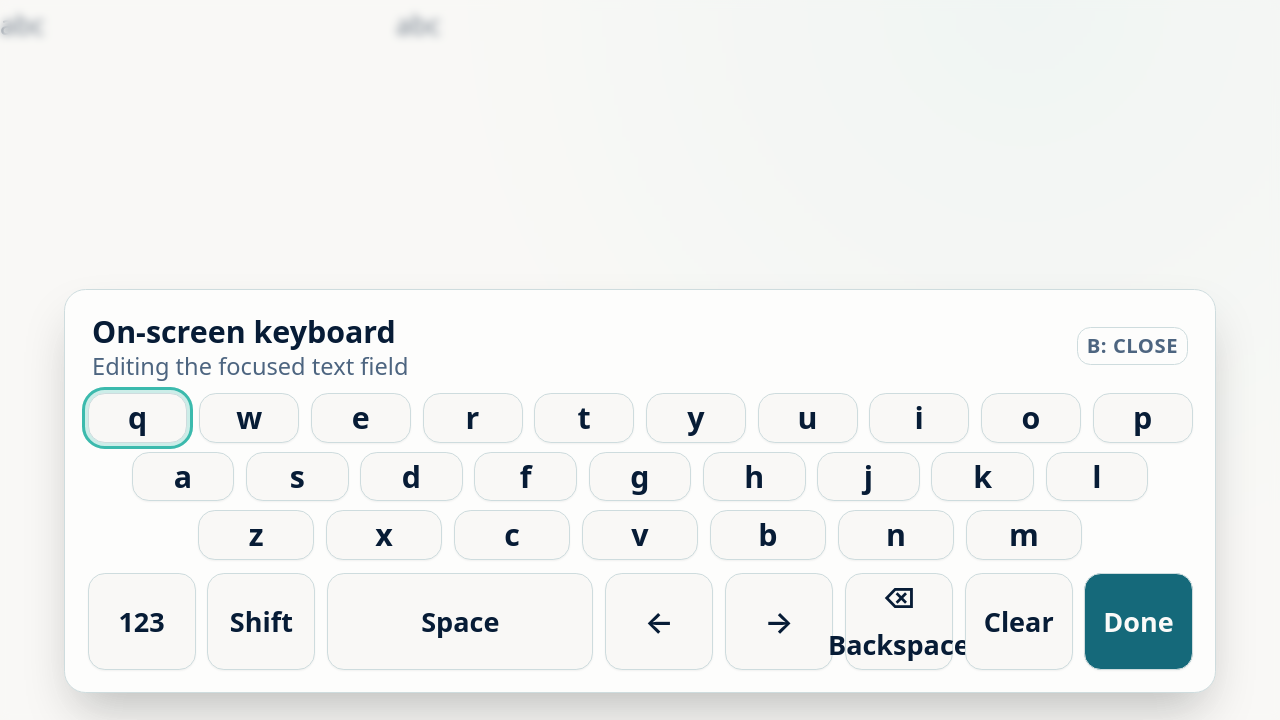
OnScreenKeyboard › edits, cancels, and returns focus to the field
The image size is (1280, 720).
Step 1. Click the button "⌫ Backspace" → (899, 621), box [845,573,953,670]
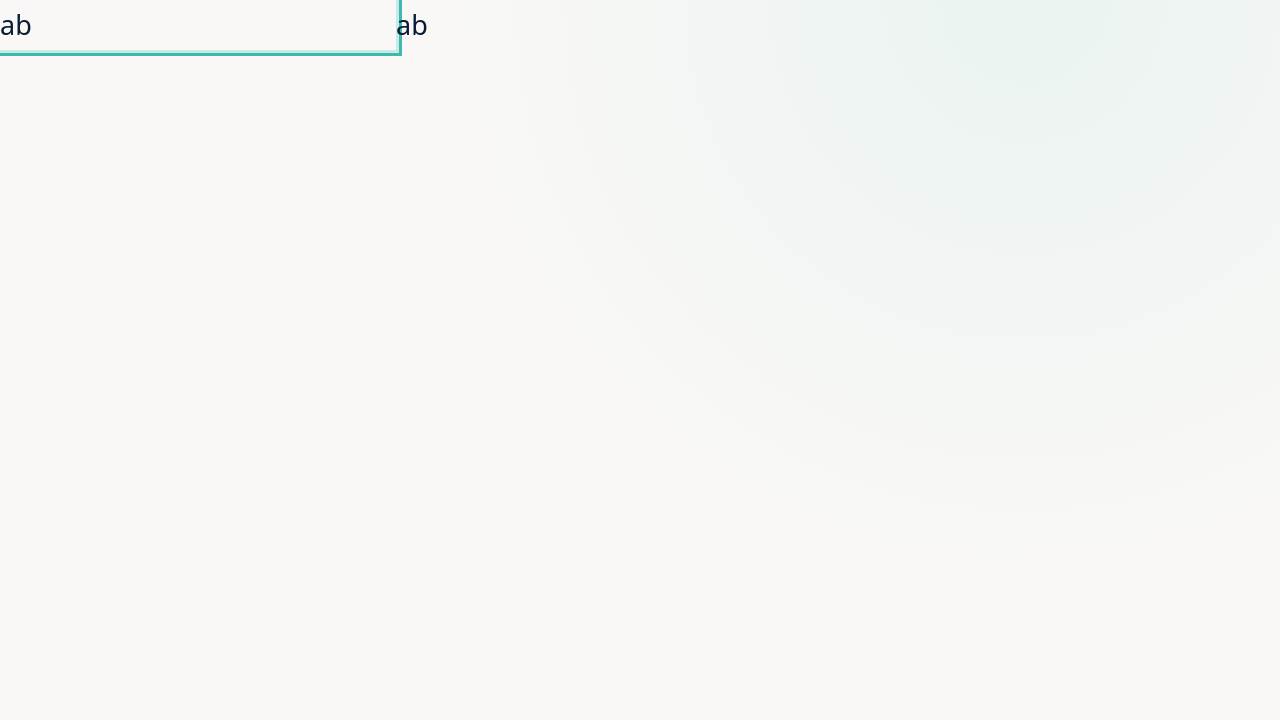
Expected: the message reads "ab", [396,6,428,43]
Expected: the heading "On-screen keyboard" is gone
